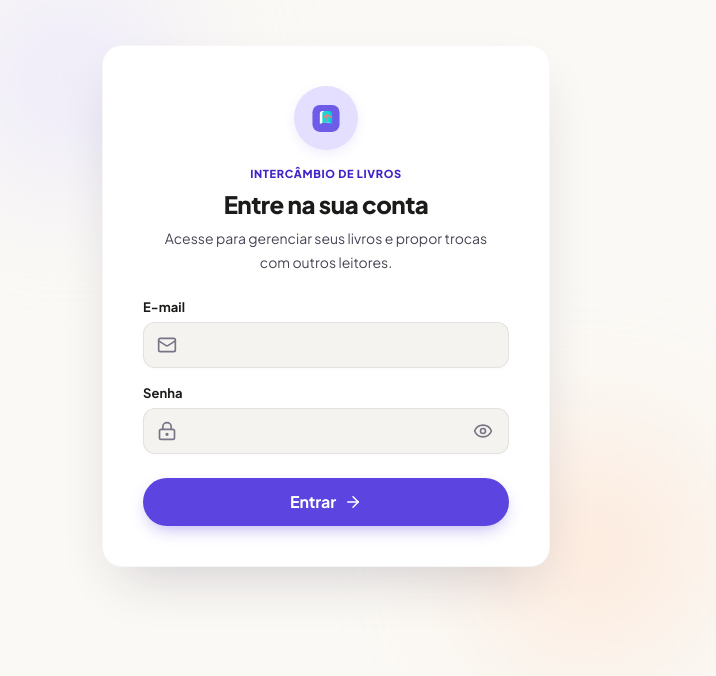
Test: LoginPage › mantém a tela e mostra o erro devolvido para credenciais inválidas
In the field labelled "E-mail": (326, 345) [143,322,509,368], type "  camila@email.com  "
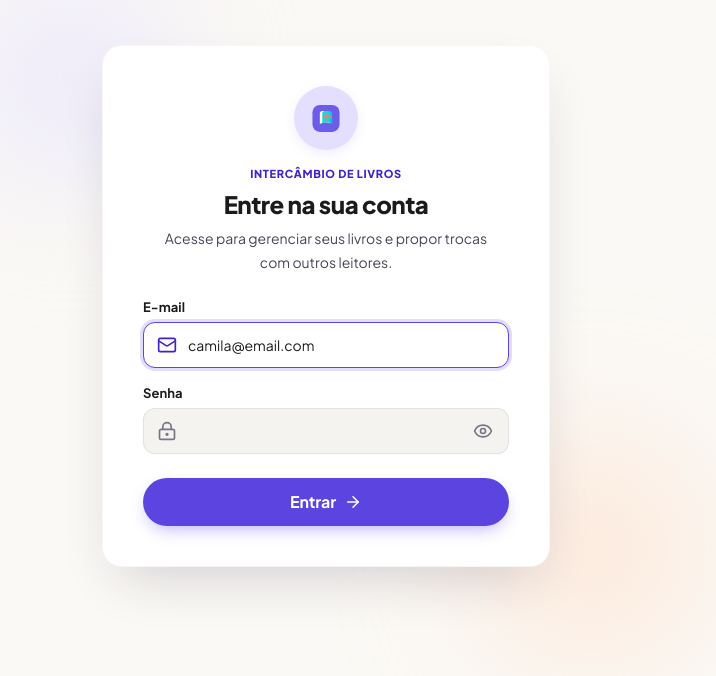
In the password field labelled "Senha": (326, 431) [143,408,509,454], type "123456"
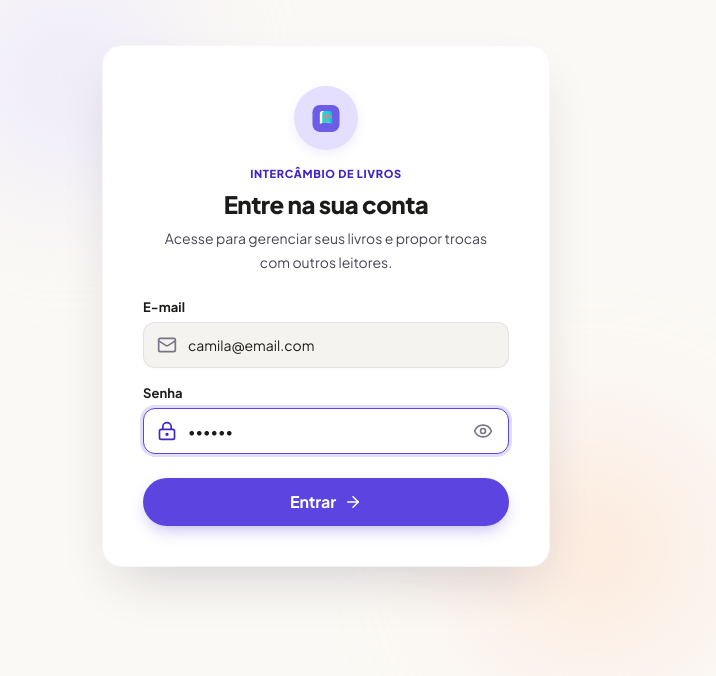
Click the button "Entrar": (326, 502) [143,478,509,526]
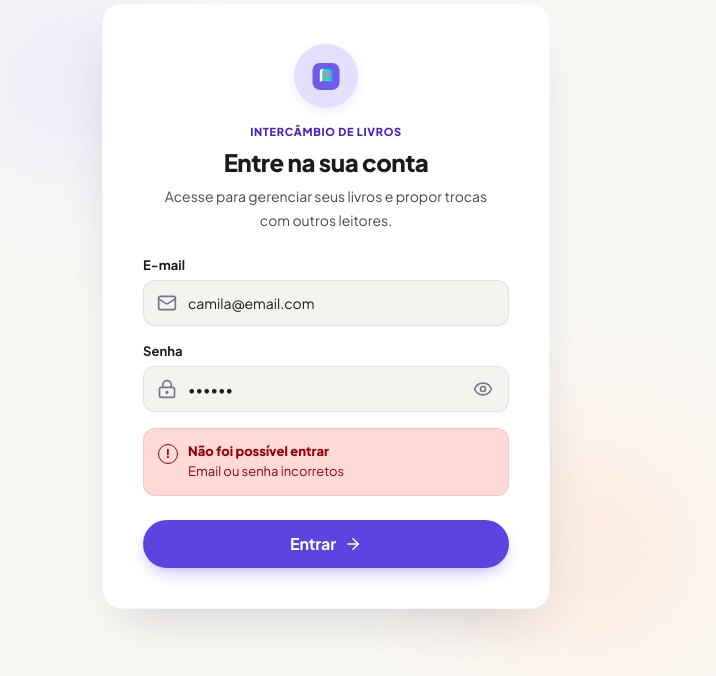
expect the heading "Entre na sua conta" is shown: met, box [224,148,428,178]
expect the message shows "Email ou senha incorretos": met, box [188,463,344,479]
